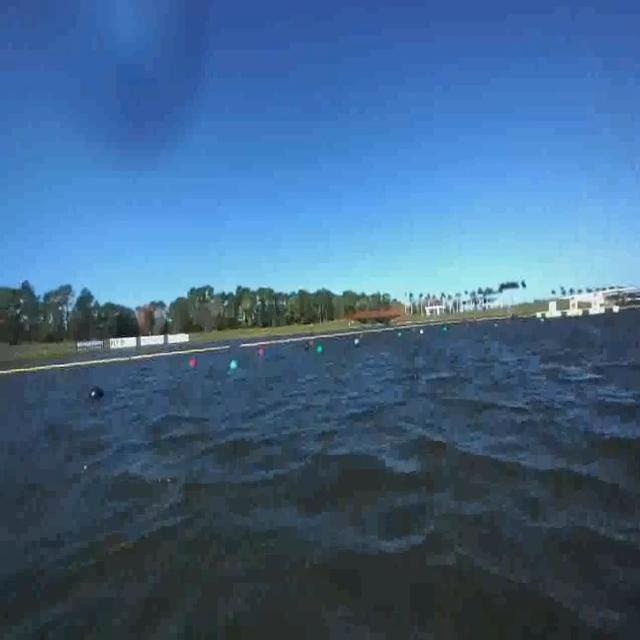black-buoy: (89, 381, 107, 407)
green-buoy: (229, 358, 237, 369)
red-buoy: (189, 358, 196, 367)
